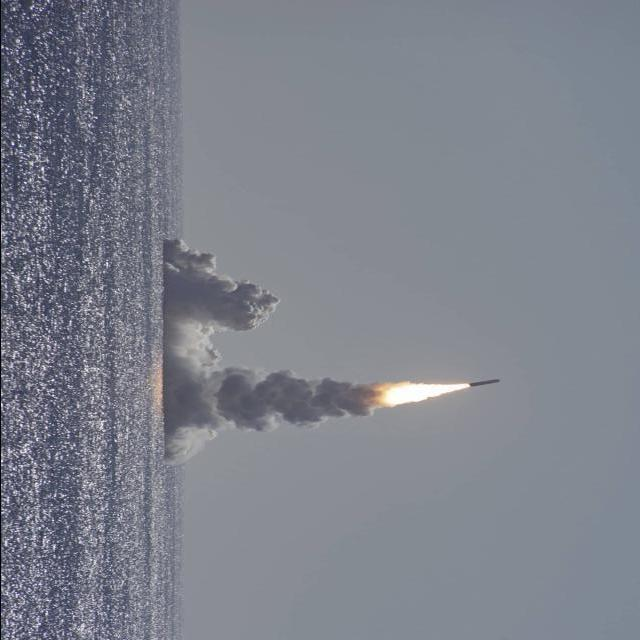missile: (464, 375, 507, 387)
